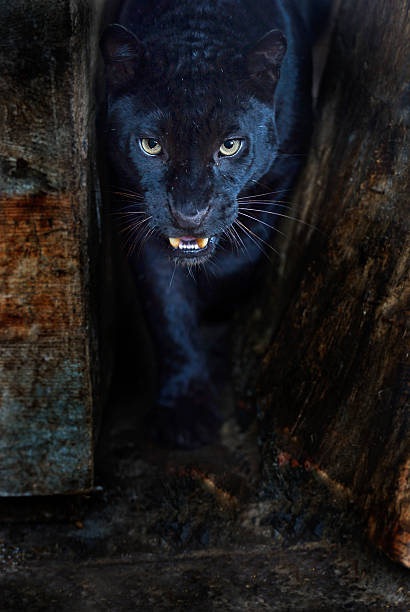panther: (81, 17, 328, 304)
